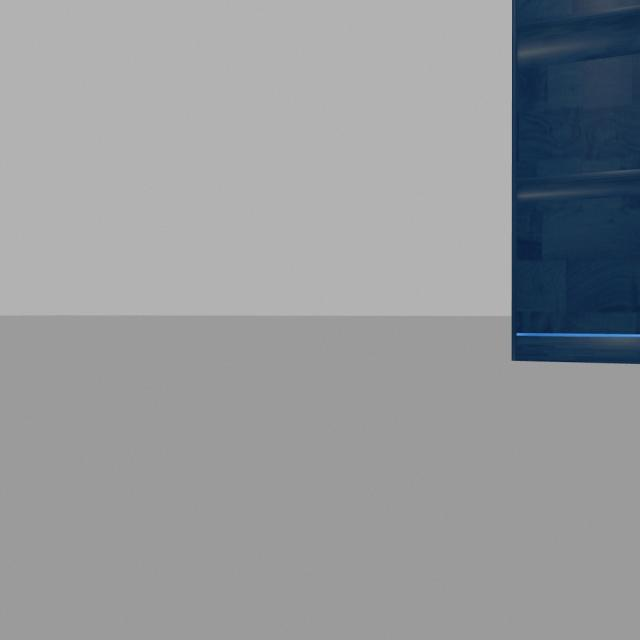shelf: (504, 0, 640, 389)
